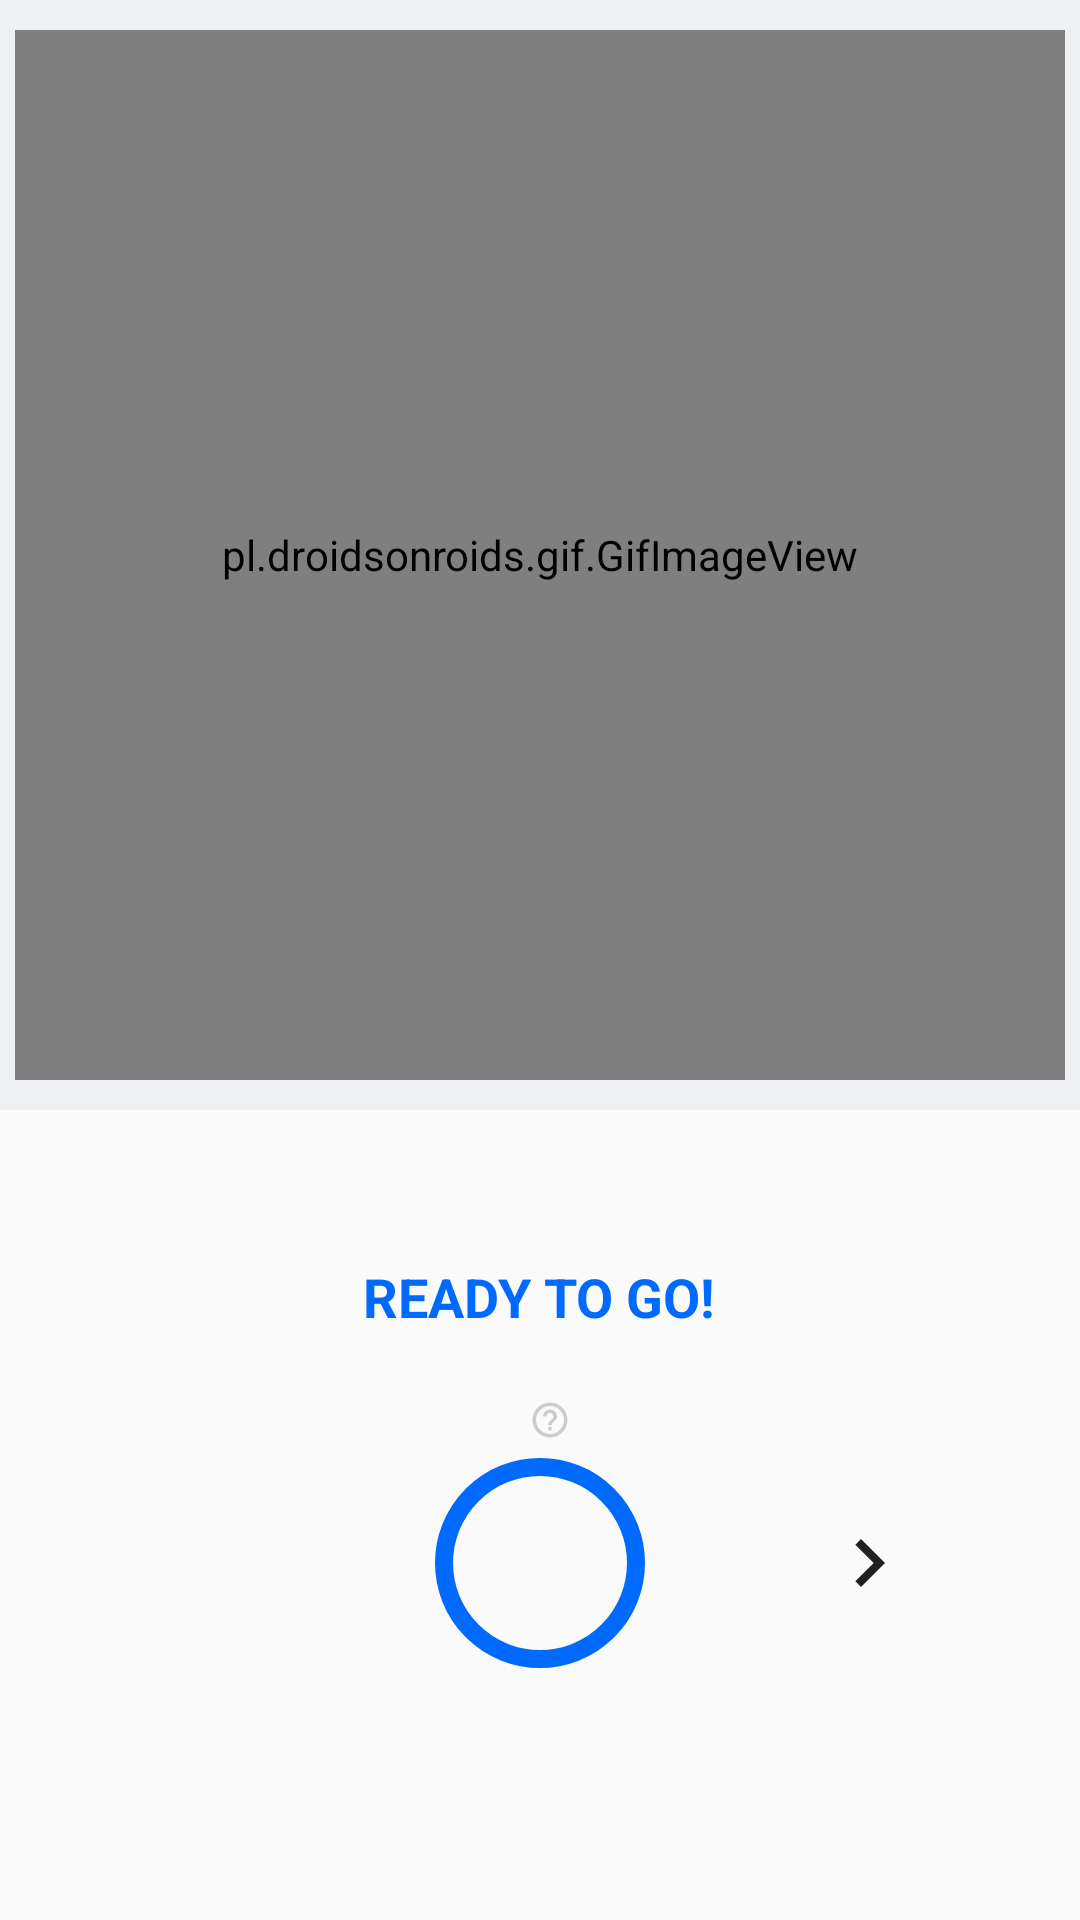

Point at icon controls on the screen. Image size 1080x1920, points as point (x, y).
help: point (550, 1420)
keyboard arrow right: point (870, 1563)
